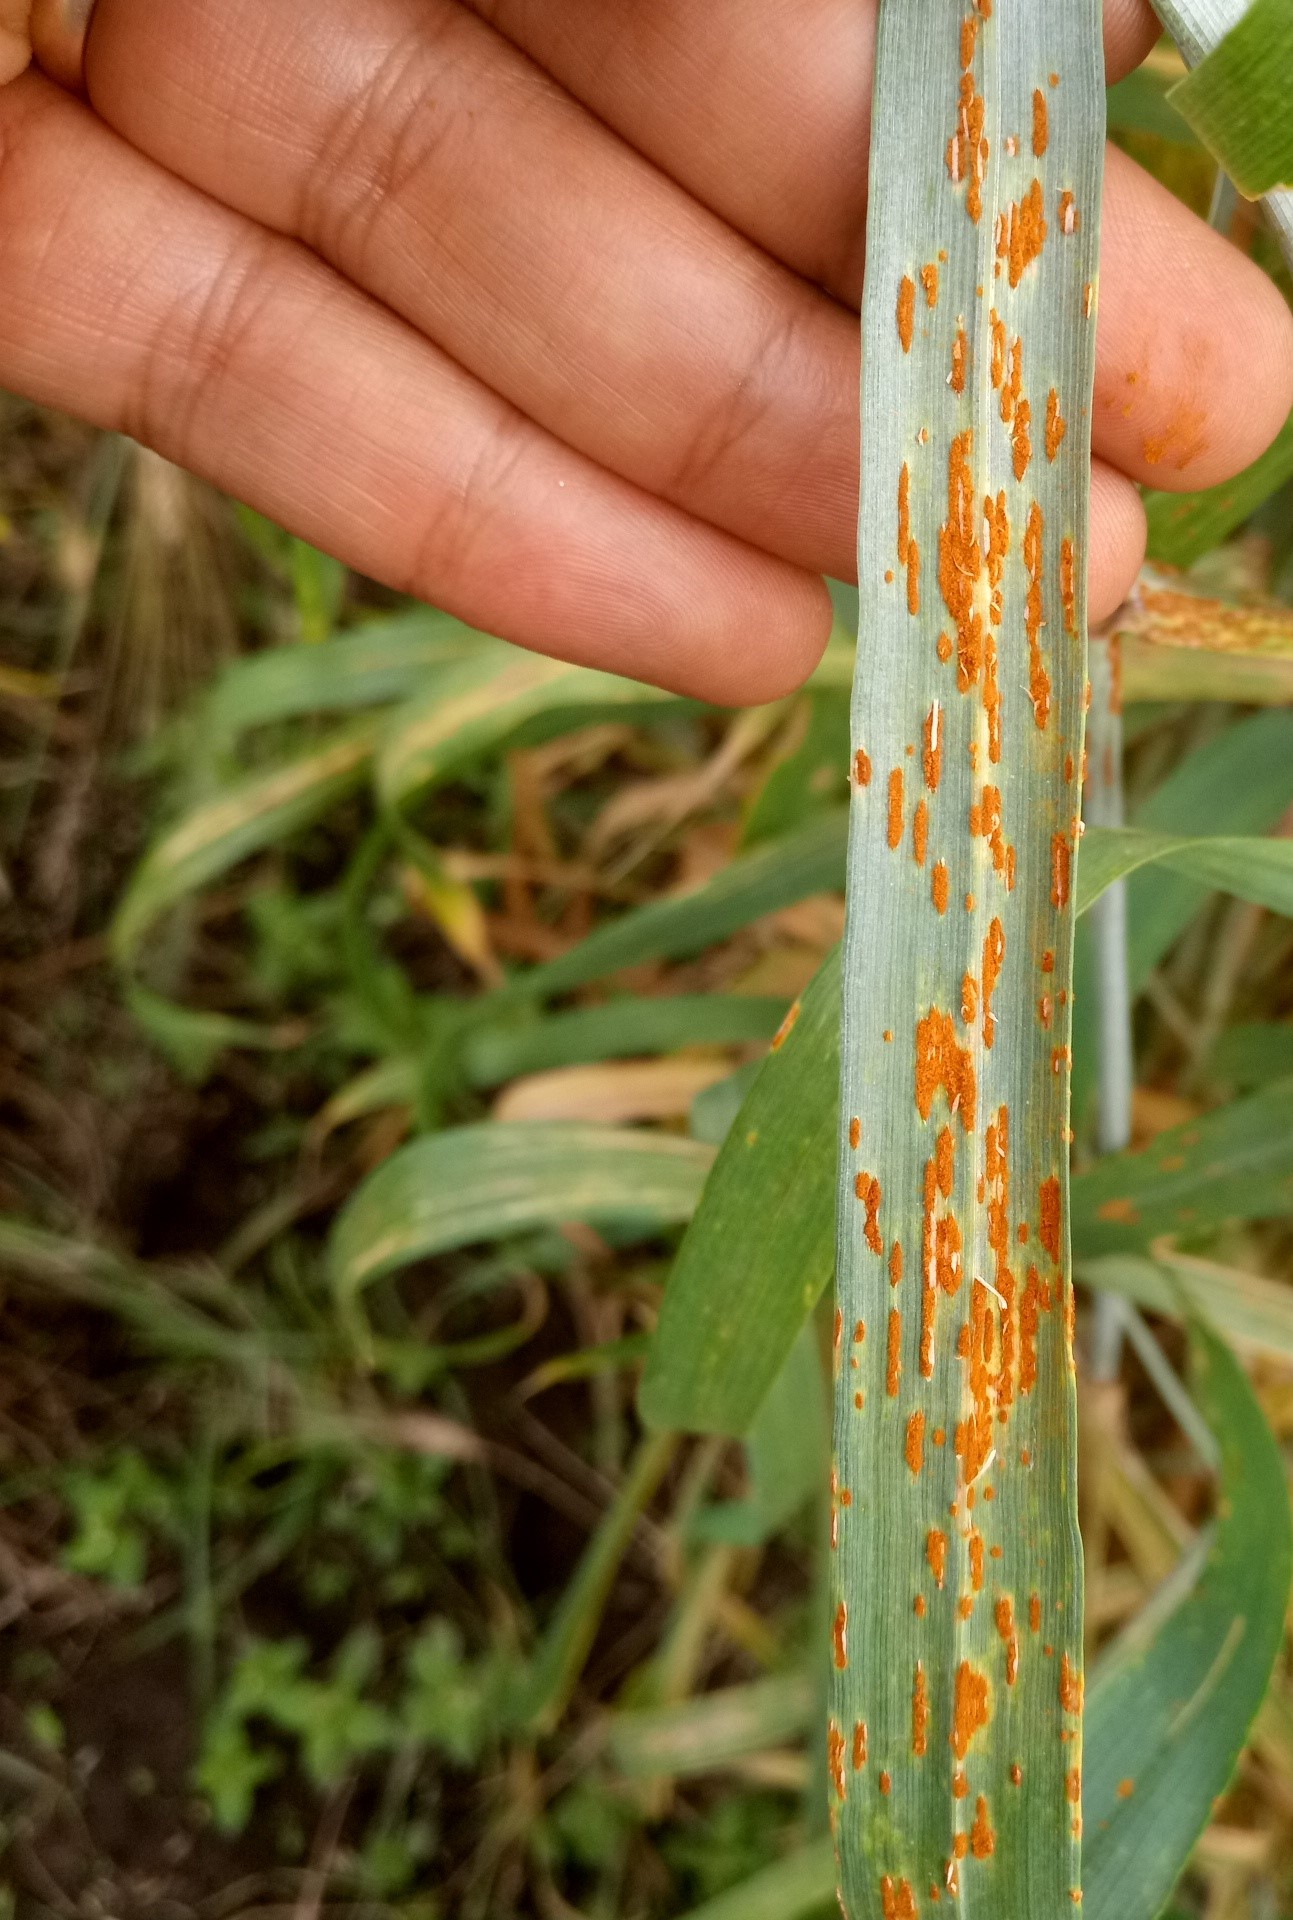Leaf Rust: (825, 213, 1091, 1841)
